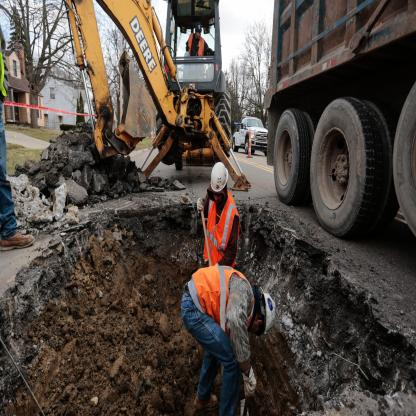person: (158, 260, 283, 416), (196, 164, 241, 282)
